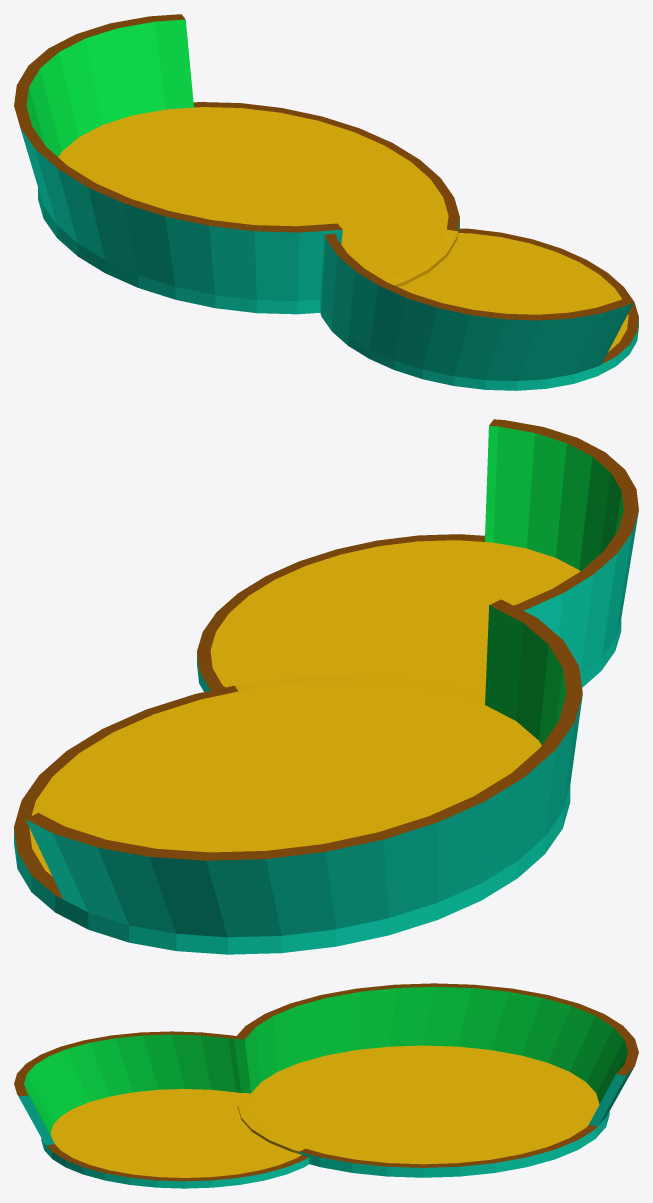
File: casa01.fbx
3 renders of one model, top to bottom at view 1: azimuth 30°, elevation 25°; view 2: azimuth 150°, elevation 25°; view 3: azimuth 270°, elevation 25°, orthographic. The views are drawn at different scales.
Visible parts, largest first — view 1: Cylinder.002; view 2: Cylinder.002; view 3: Cylinder.002.
Part boxes in pixels (x1=…): Cylinder.002: x1=14, y1=14, x2=638, y2=390; Cylinder.002: x1=14, y1=419, x2=638, y2=954; Cylinder.002: x1=14, y1=983, x2=638, y2=1188.
Bounding box in the file's own units: 1113 × 239 × 2088.
